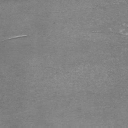finishing roll printing: (2, 34, 29, 40)
